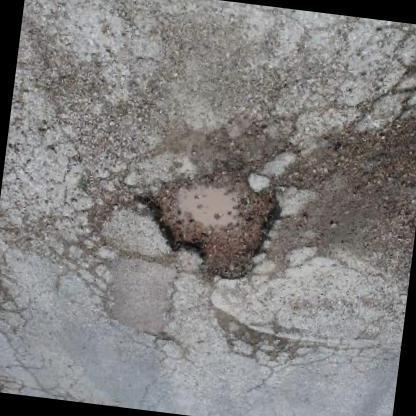pothole: (140, 158, 284, 281)
